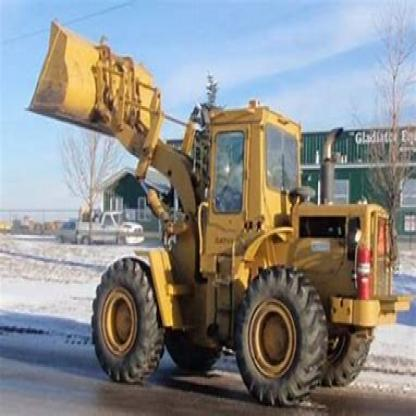bull_dozer/loader/grader: (20, 16, 398, 398)
